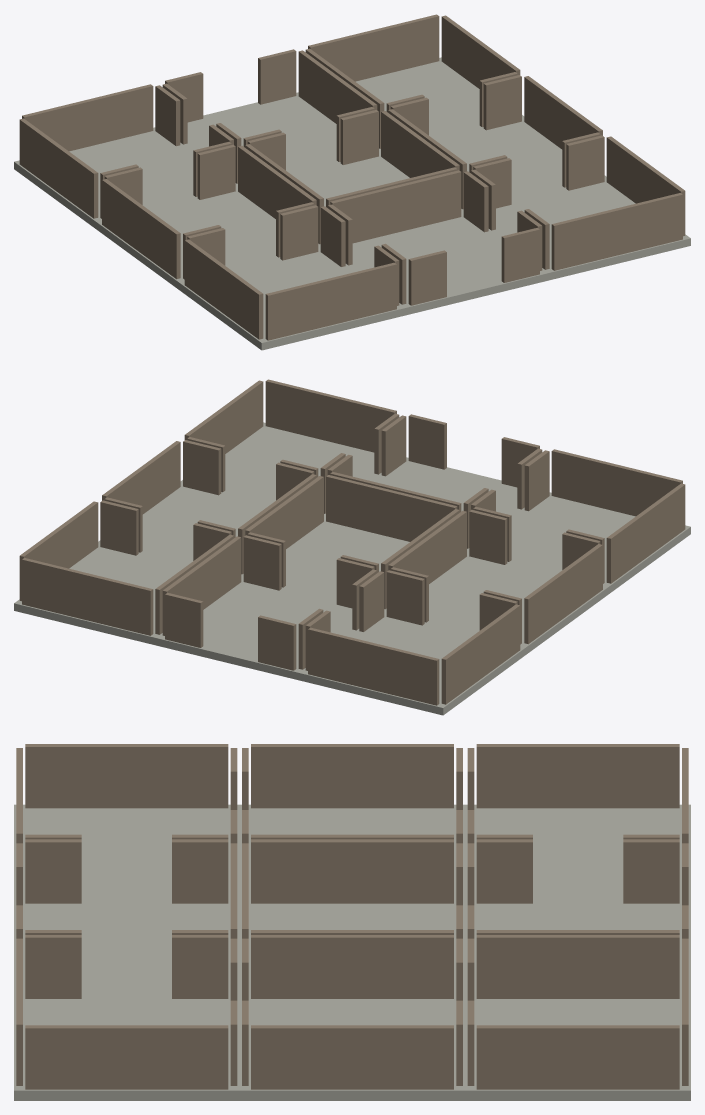
File: seed-15.glb
3 views of the same model, one above another, from view 1: azimuth 30°, elevation 25°; view 2: azimuth 150°, elevation 25°; view 3: azimuth 270°, elevation 25° (orthographic). The views are drawn at different scales.
Parts seen in each view (by area): view 1: tee_floor, elbow_S_panel_0, elbow_W_panel_0.001, straight_floor, elbow_floor.002, tee_floor.001, tee_S_panel_0, straight_floor.001, elbow_W_panel_0.002, end_N_panel_0.001, end_floor.001, elbow_floor (+32 smaller); view 2: tee_floor.001, elbow_W_panel_0.002, end_N_panel_0.001, straight_floor, elbow_floor, elbow_floor.001, elbow_W_panel_0.001, straight_floor.001, elbow_S_panel_0, end_N_panel_0, end_floor, elbow_floor.002 (+32 smaller); view 3: elbow_S_panel_0.001, end_E_panel_0.001, elbow_W_panel_0, elbow_S_panel_0.002, straight_W_panel_0, end_E_panel_0, straight_E_panel_0.001, end_W_panel_0.001, straight_W_panel_0.001, tee_floor, elbow_floor, elbow_floor.002 (+25 smaller).
Part boxes in pixels (x1,y1,x2,y2): tee_floor: (345, 213, 547, 315); elbow_S_panel_0: (265, 262, 396, 340); elbow_W_panel_0.001: (551, 193, 682, 270); straight_floor: (96, 187, 320, 289); elbow_floor.002: (14, 127, 237, 229); tee_floor.001: (180, 92, 380, 185); tee_S_panel_0: (330, 170, 461, 243); straight_floor.001: (435, 118, 606, 211); elbow_W_panel_0.002: (22, 84, 153, 151); end_N_panel_0.001: (308, 14, 439, 81); end_floor.001: (355, 57, 524, 150); elbow_floor: (179, 248, 404, 350); tee_floor.001: (157, 578, 359, 680); elbow_W_panel_0.002: (308, 627, 439, 705); end_N_panel_0.001: (22, 558, 153, 635); straight_floor: (384, 552, 608, 654); elbow_floor: (467, 492, 690, 594); elbow_floor.001: (180, 422, 381, 515); elbow_W_panel_0.001: (265, 379, 396, 452); straight_floor.001: (98, 483, 269, 576); elbow_S_panel_0: (551, 449, 682, 516); end_N_panel_0: (326, 475, 457, 541); end_floor: (241, 518, 409, 611); elbow_floor.002: (300, 613, 525, 715); elbow_S_panel_0.001: (25, 1025, 228, 1089); end_E_panel_0.001: (476, 1025, 679, 1089); elbow_W_panel_0: (25, 744, 228, 808); elbow_S_panel_0.002: (476, 744, 679, 808); straight_W_panel_0: (251, 744, 453, 808); end_E_panel_0: (251, 839, 453, 903); straight_E_panel_0.001: (251, 1025, 453, 1089); end_W_panel_0.001: (476, 935, 679, 998); straight_W_panel_0.001: (251, 935, 453, 998); tee_floor: (14, 900, 239, 995); elbow_floor: (14, 804, 239, 899); elbow_floor.002: (465, 804, 690, 899).
Size of the model in its own units: 12 by 1.4 by 12.
